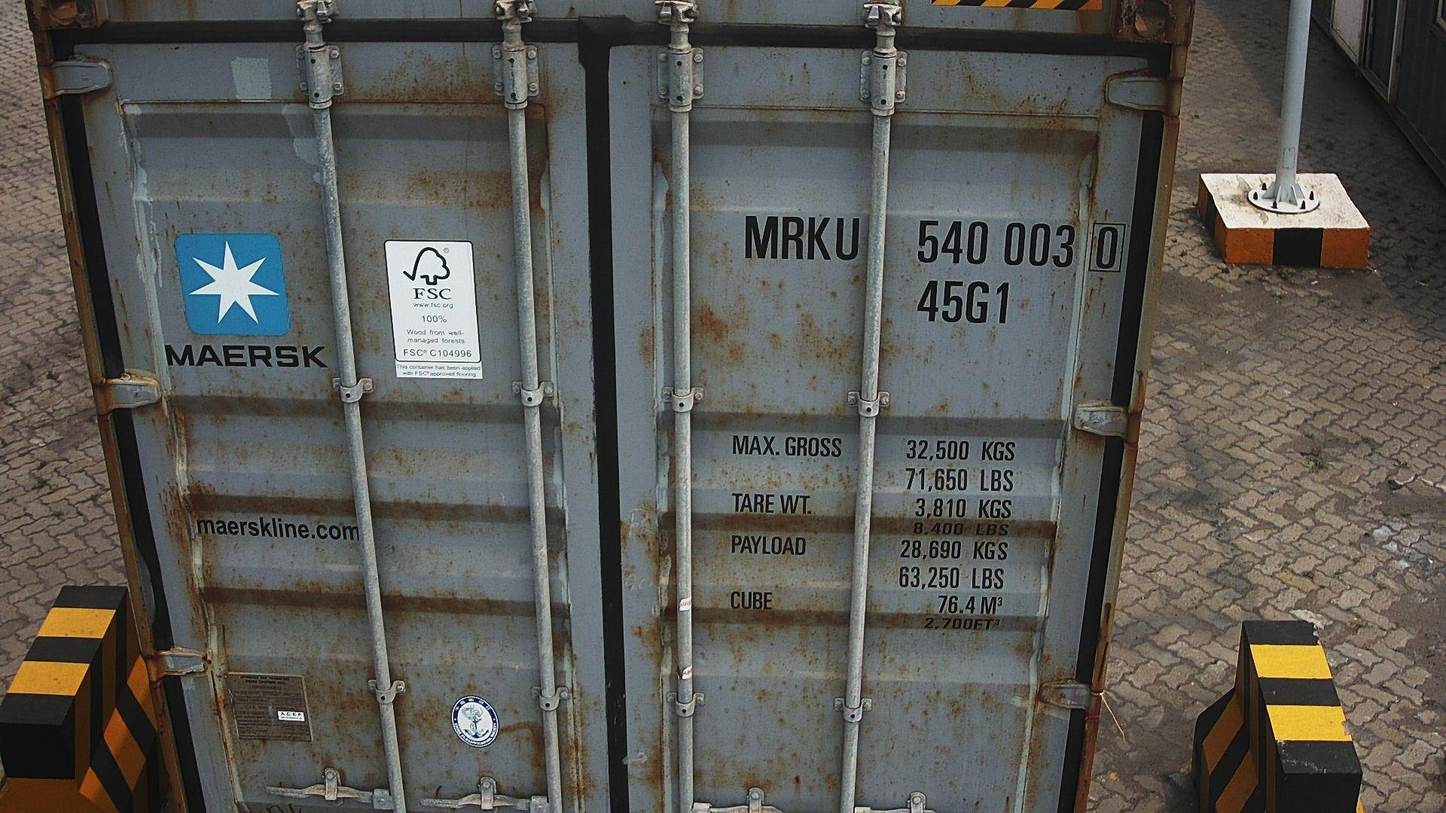container-numbers: (740, 212, 1133, 275), (916, 278, 1015, 328)
